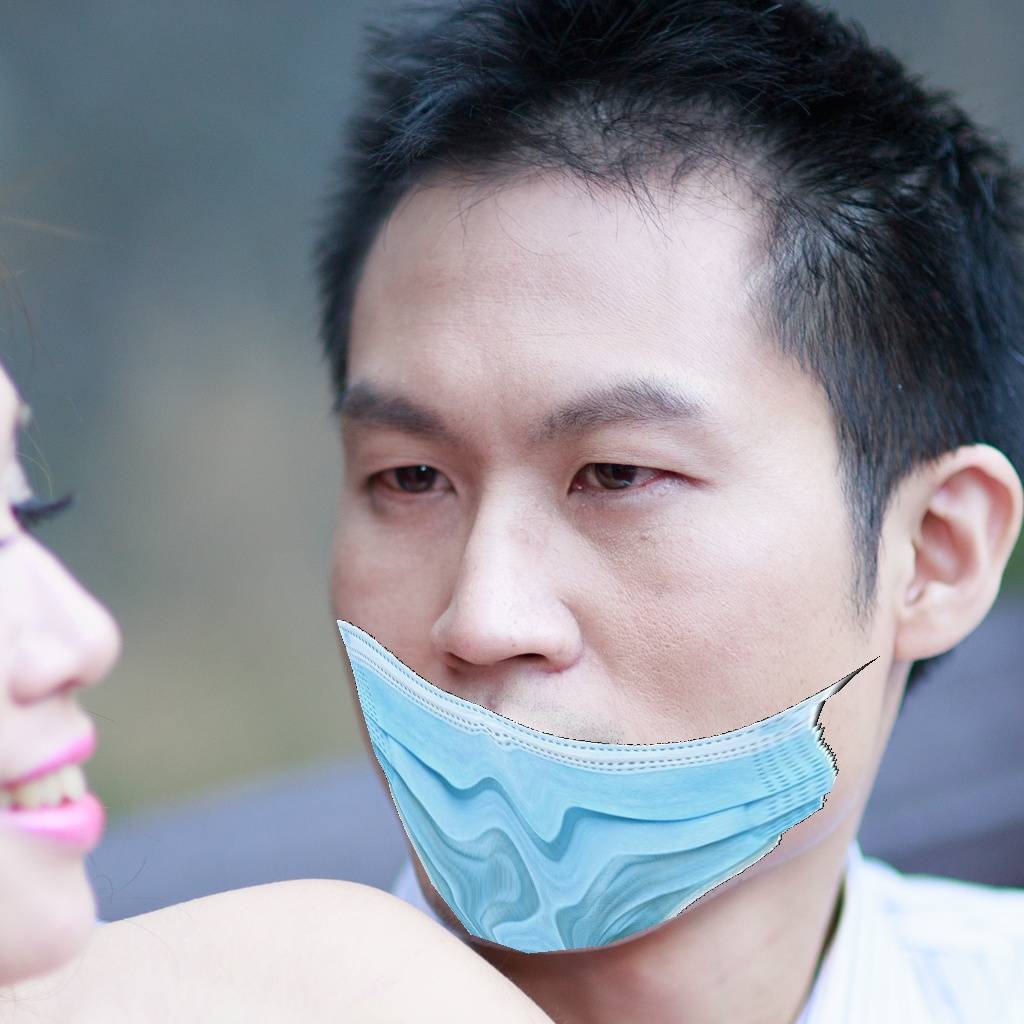mascarilla_mal_puesta: (304, 365, 972, 975)
